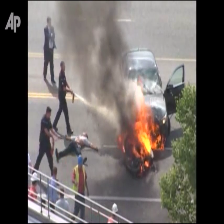fire_h: (119, 82, 166, 160)
fire_l: (117, 134, 125, 154), (144, 160, 149, 168), (140, 165, 143, 171)
